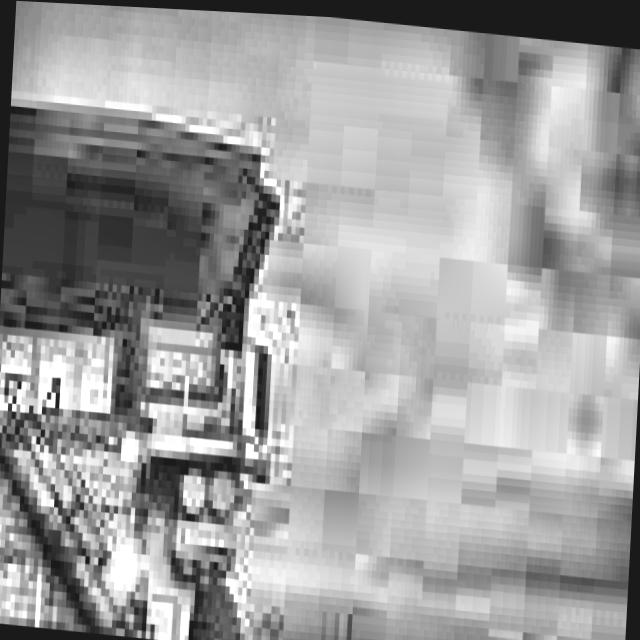dump_truck: (0, 14, 344, 640)
